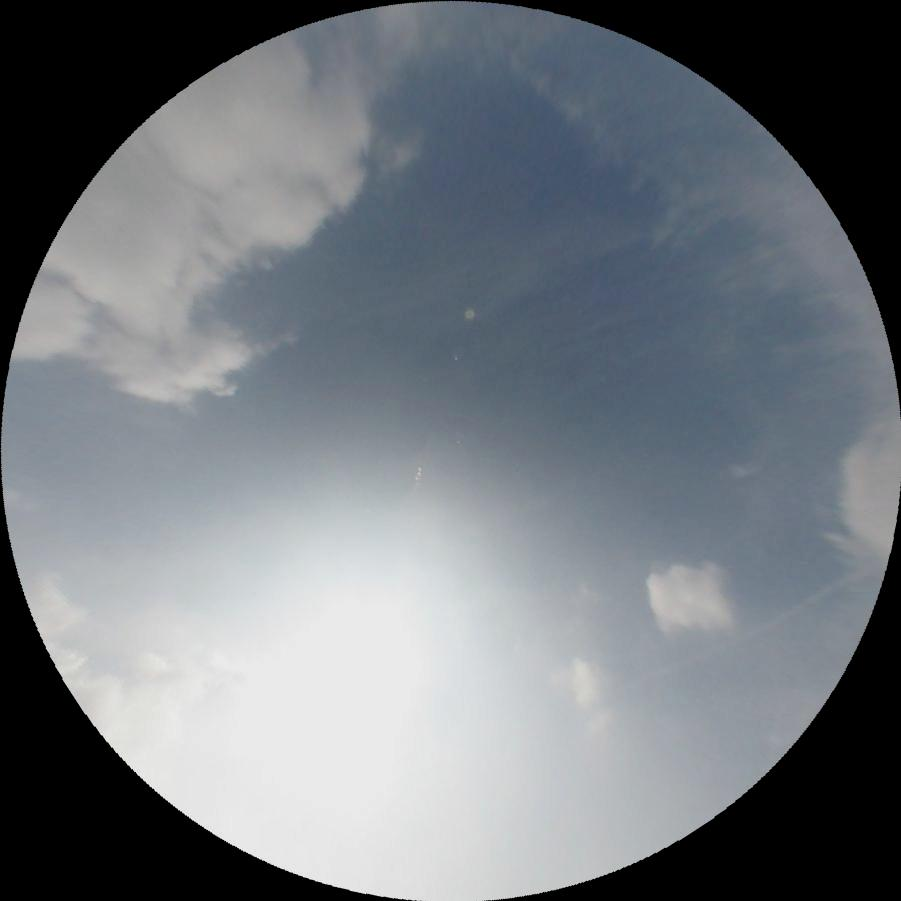contrail old: (622, 559, 874, 696)
sun: (175, 571, 491, 870)
